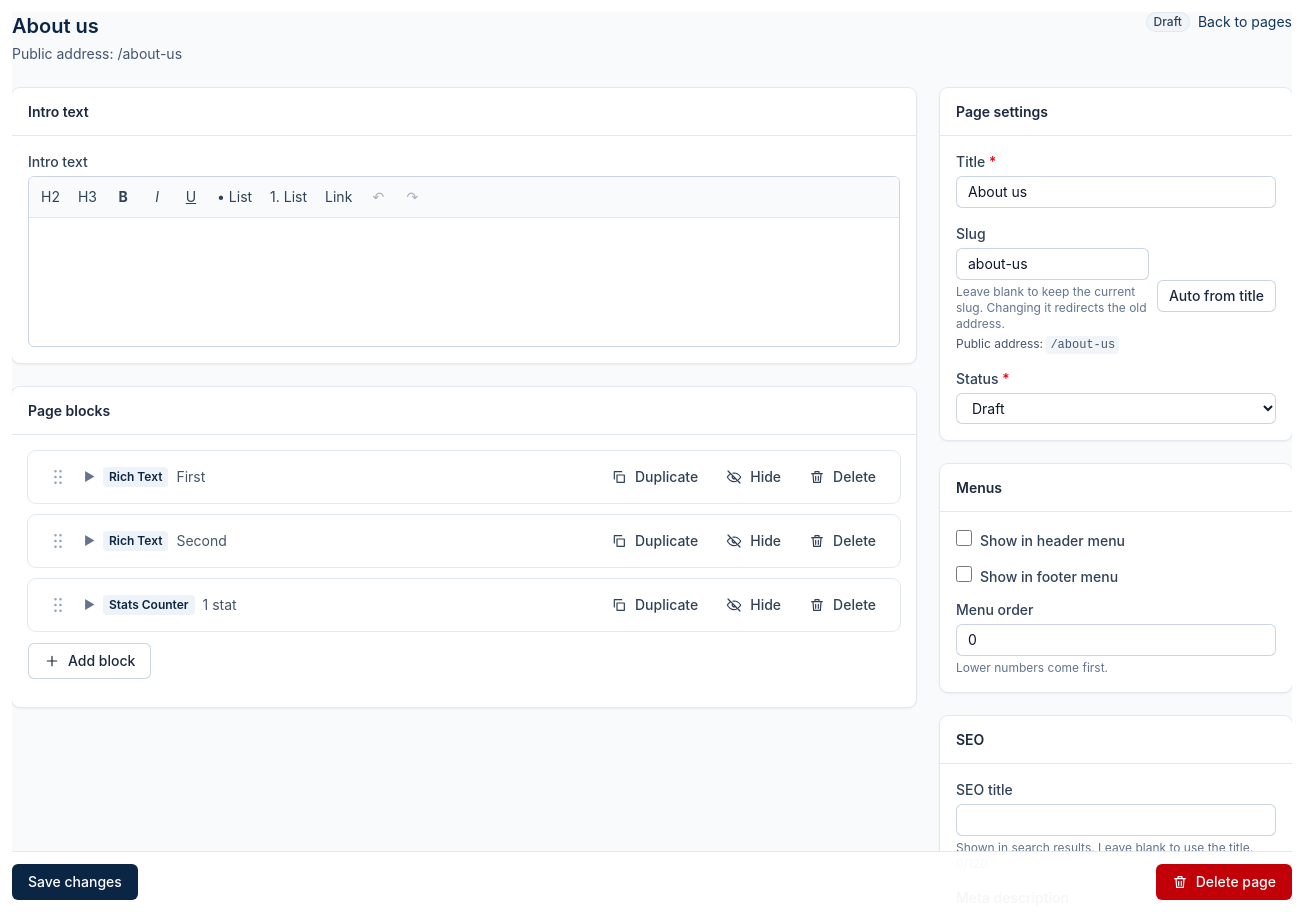
PageFormPage block builder › shows a nested server error on the matching input and expands its block
The width and height of the screenshot is (1304, 912).
Click the button "Save changes" at (75, 882), box [12,864,138,900]
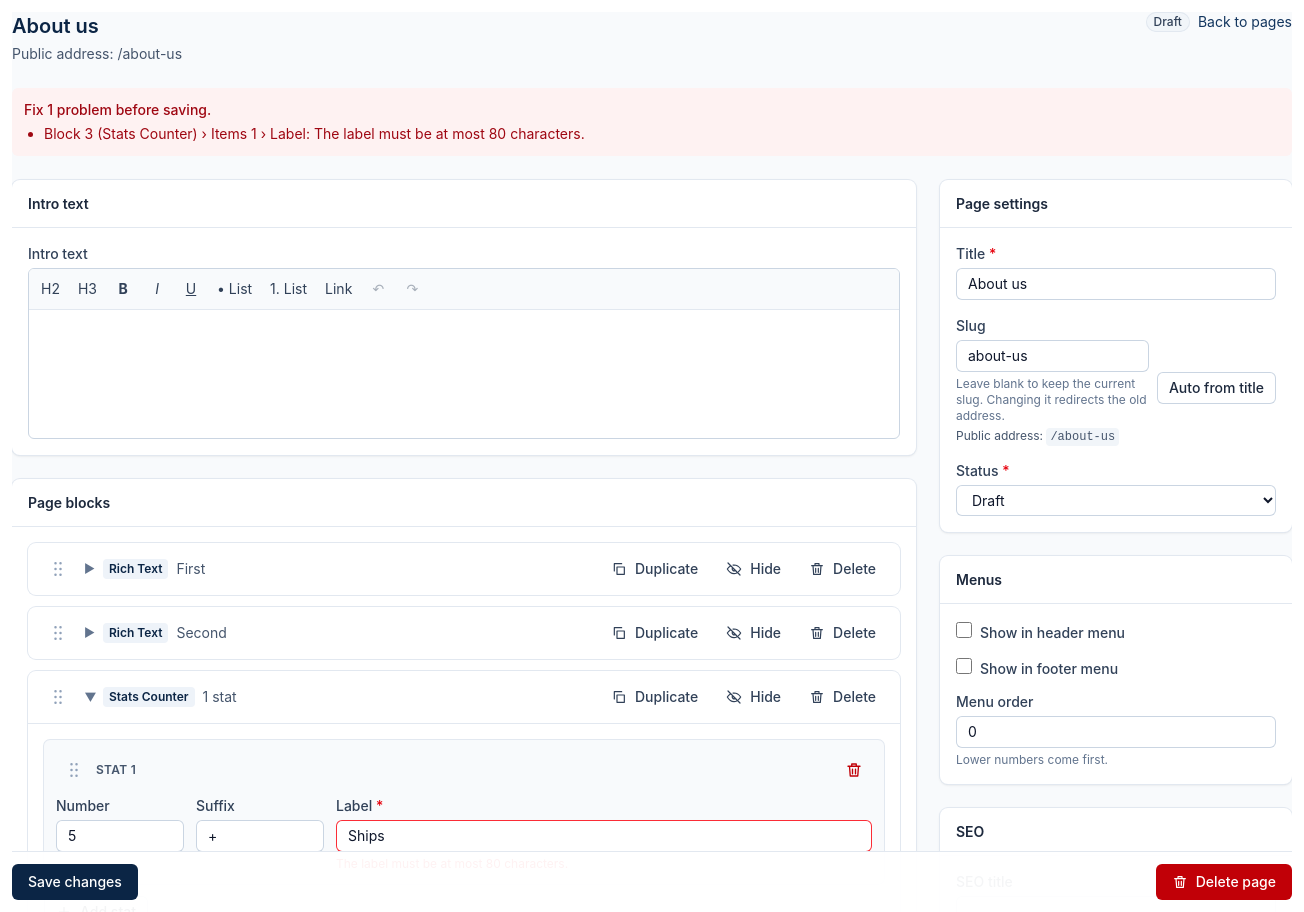
Result: the list item "Block 3 (Stats Counter) › Items 1 › Label: The label must be at most 80 characters." is shown at [44,125,585,142]
